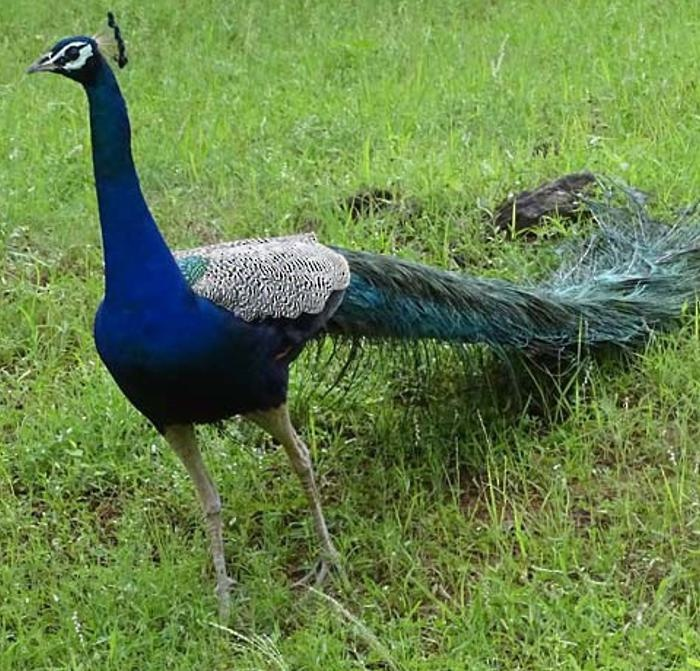peacock: (35, 13, 573, 504)
